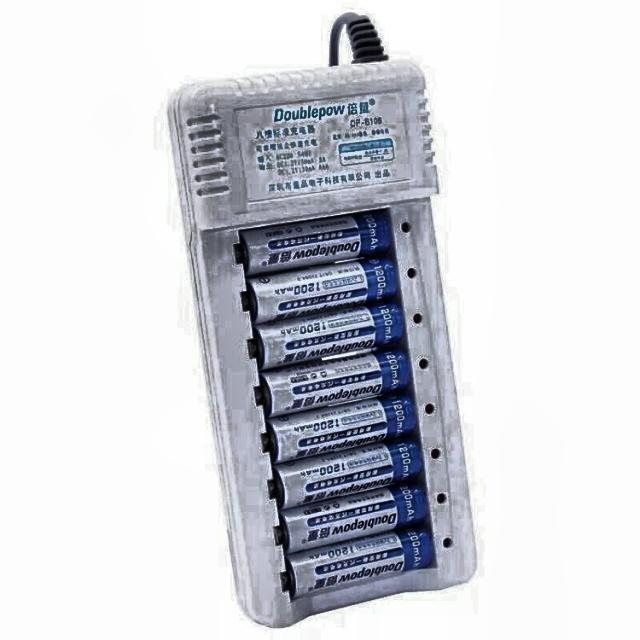Non-Valuable Waste - Batteries: (284, 526, 434, 598), (250, 301, 404, 370), (256, 349, 410, 418), (274, 438, 422, 509), (280, 482, 428, 553), (265, 395, 416, 464), (242, 258, 398, 324), (240, 210, 391, 276)
